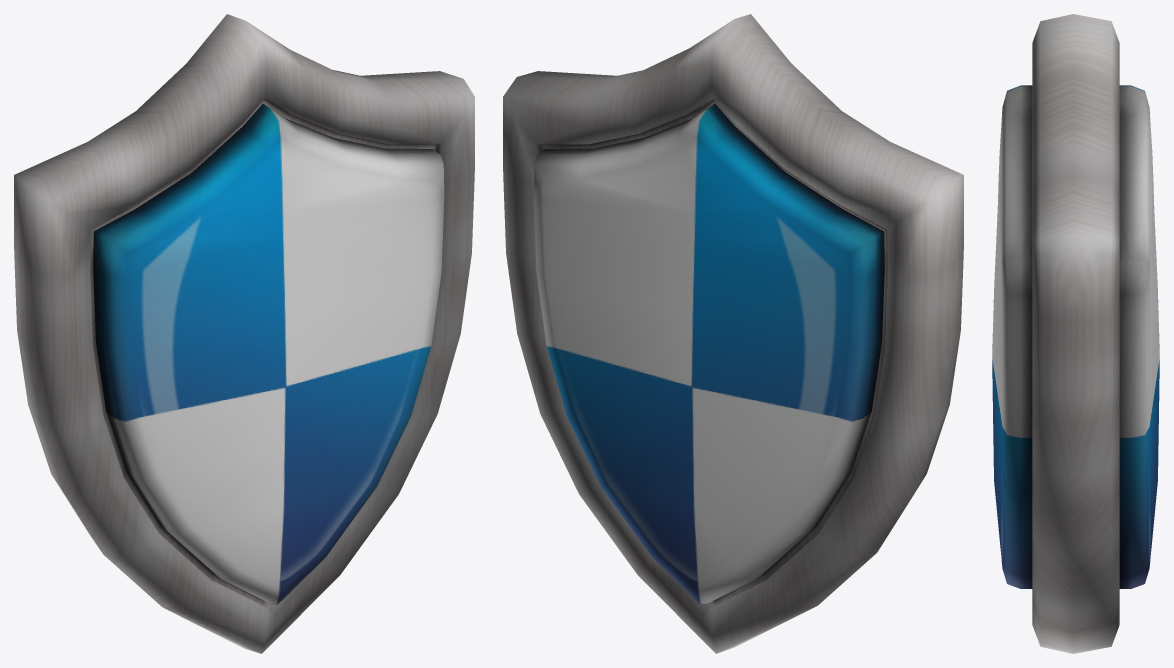
File: Shield_New.FBX
3 renders of one model, left to right at view 1: azimuth 30°, elevation 25°; view 2: azimuth 150°, elevation 25°; view 3: azimuth 270°, elevation 25°, orthographic.
Parts seen in each view (by area): view 1: Silver_Medol; view 2: Silver_Medol; view 3: Silver_Medol.
Part boxes in pixels (x1=…): Silver_Medol: x1=14, y1=14, x2=474, y2=653; Silver_Medol: x1=503, y1=14, x2=963, y2=653; Silver_Medol: x1=992, y1=14, x2=1159, y2=653.
Size of the model in its own units: 61.03 by 83.47 by 19.82.
